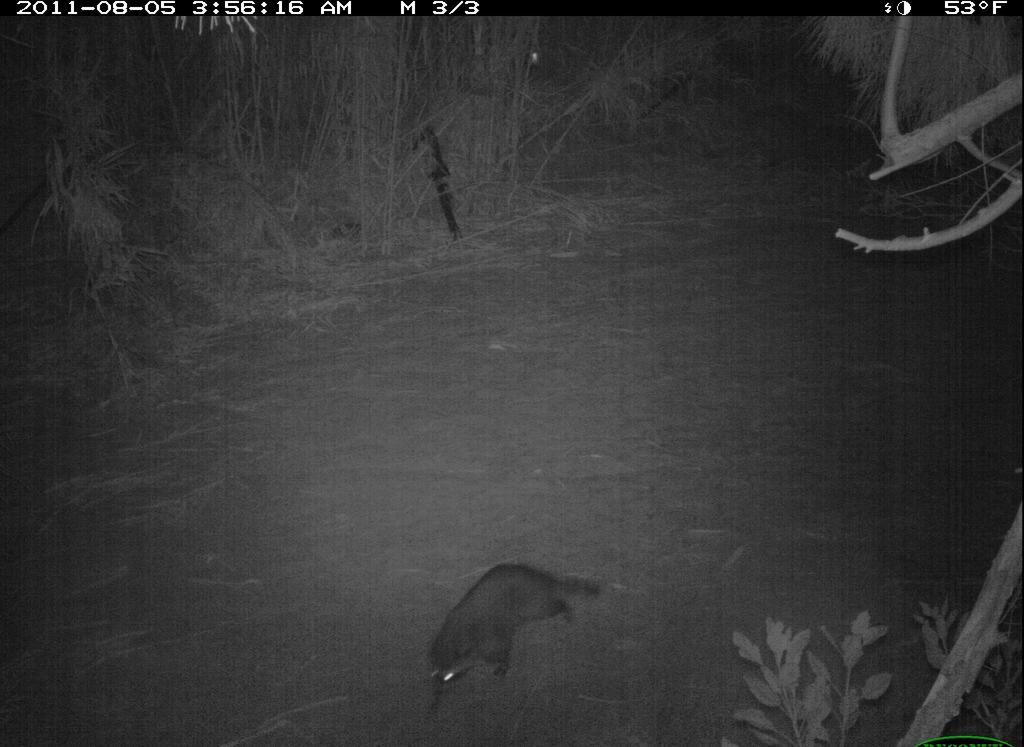raccoon: (385, 545, 625, 726)
